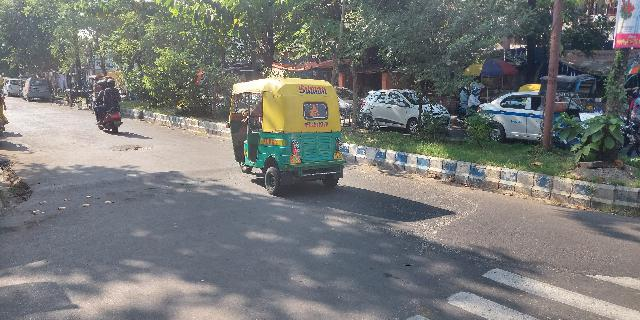Autorickshaw: (224, 80, 348, 192)
Motorbike: (84, 76, 128, 137)
